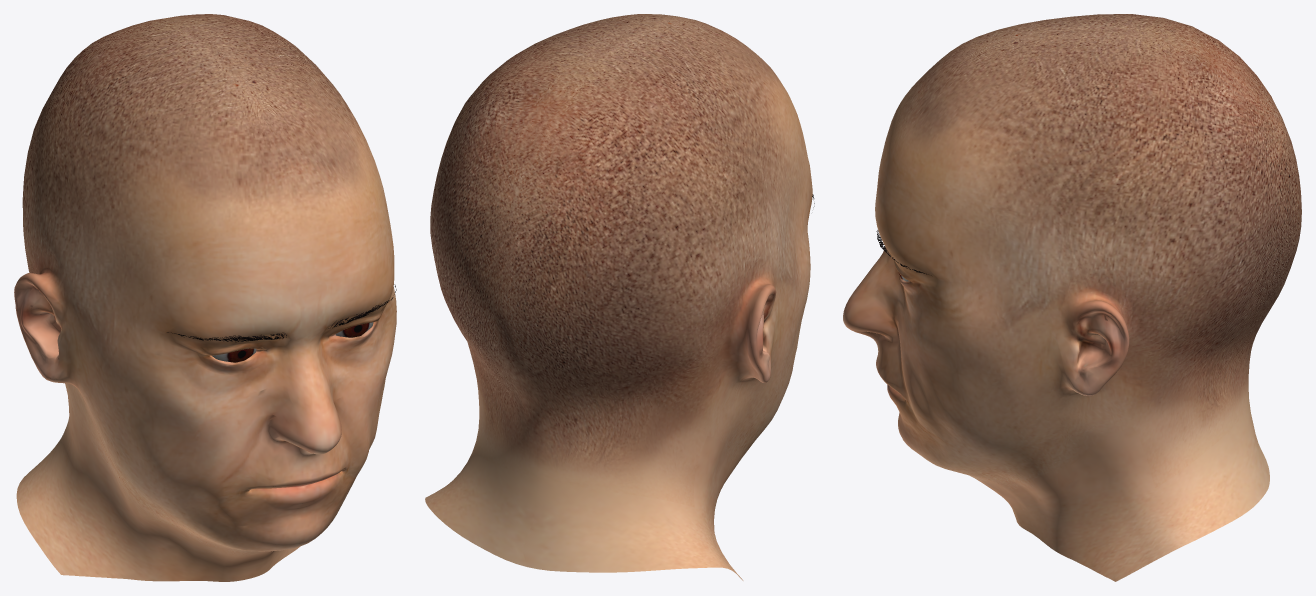
Rendered from OrrinHead.fbx.
3 views of the same model, side by side, from view 1: azimuth 30°, elevation 25°; view 2: azimuth 150°, elevation 25°; view 3: azimuth 270°, elevation 25° (orthographic). The views are drawn at different scales.
Parts seen in each view (by area): view 1: OrrinSkin, OrrinEyes, OrrinBrows; view 2: OrrinSkin; view 3: OrrinSkin.
Part boxes in pixels (<box>): OrrinSkin: <box>14,14,396,581</box>; OrrinEyes: <box>212,322,373,362</box>; OrrinBrows: <box>167,284,396,342</box>; OrrinSkin: <box>425,14,812,580</box>; OrrinSkin: <box>843,14,1301,581</box>.
Size of the model in its own units: 27.49 by 39 by 33.34.
Materials: 3 (3 with a texture image).
